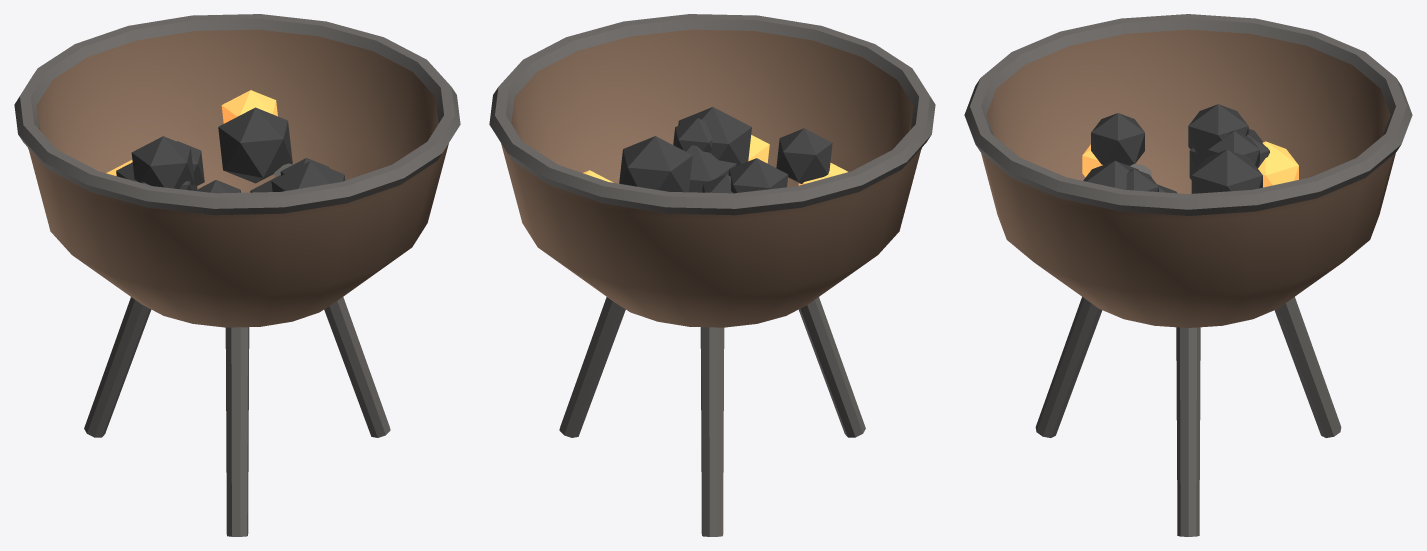
Rendered from street-brazier-v01.glb.
3 renders of one model, left to right at view 1: azimuth 30°, elevation 25°; view 2: azimuth 150°, elevation 25°; view 3: azimuth 270°, elevation 25°, orthographic.
Parts seen in each view (by area): view 1: street-brazier; view 2: street-brazier; view 3: street-brazier.
Part boxes in pixels (left/top/right/bottom): street-brazier: left=14, top=14, right=460, bottom=536; street-brazier: left=489, top=14, right=935, bottom=536; street-brazier: left=964, top=14, right=1412, bottom=536.
Bounding box in the file's own units: 1.22 × 1.09 × 1.22.
